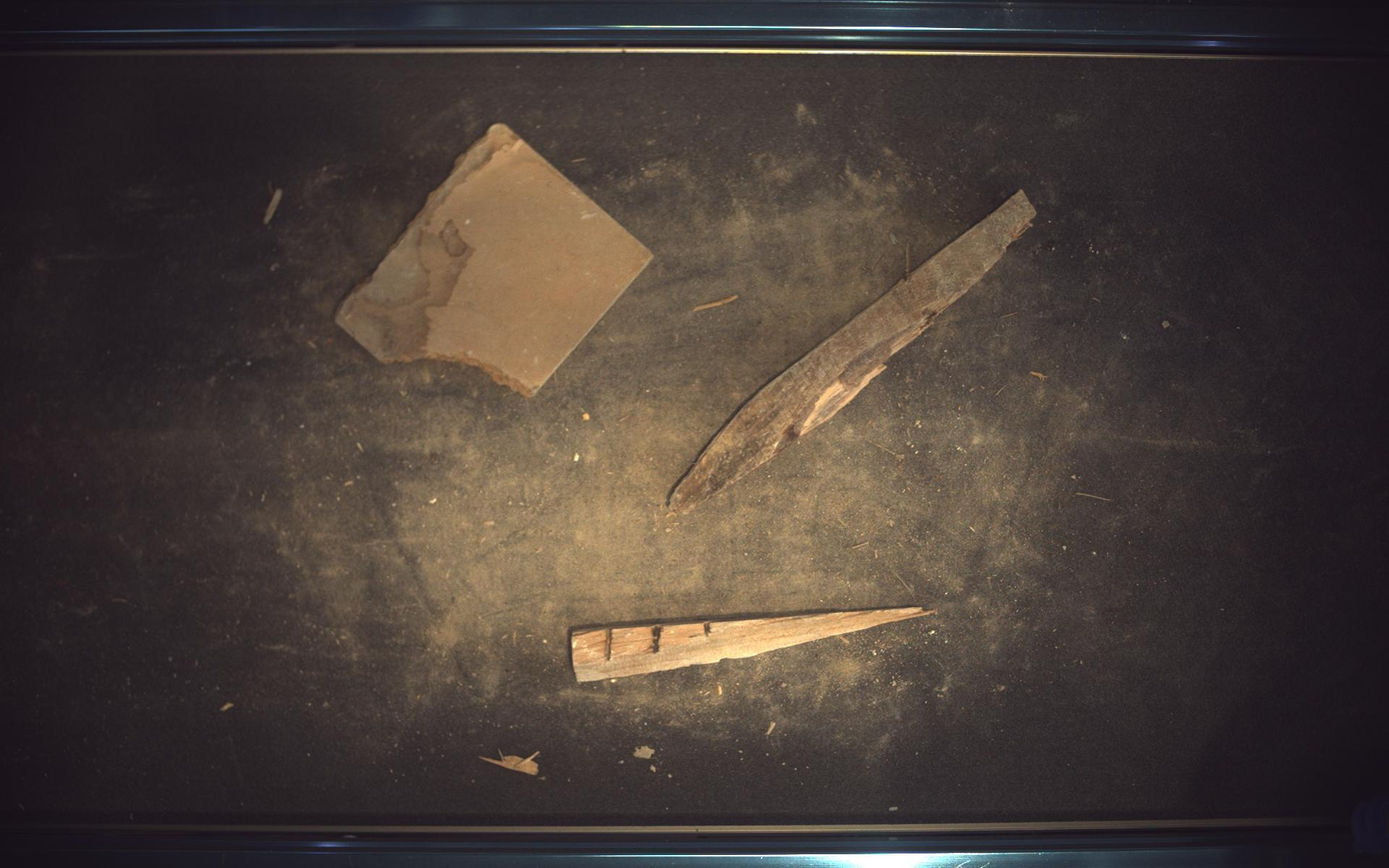wood: (669, 191, 1038, 516), (335, 122, 653, 396), (571, 607, 936, 684)
